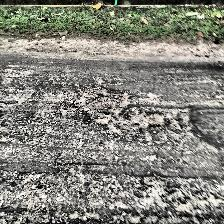pothole: (73, 82, 165, 136)
